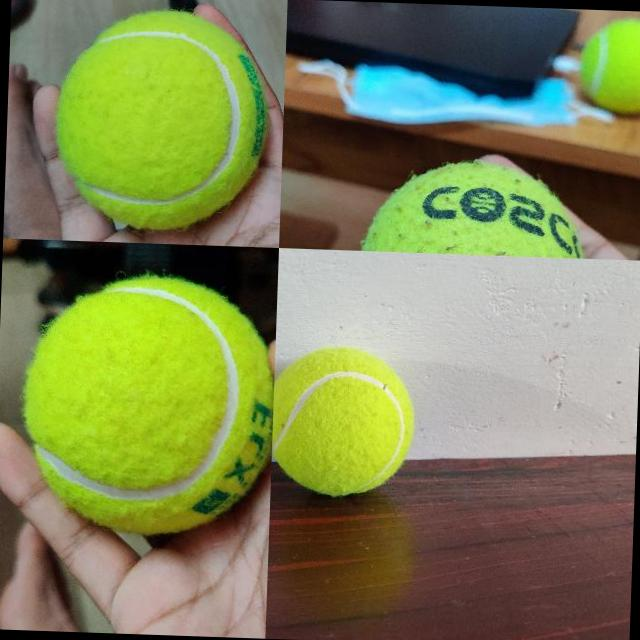Tennis Ball: (19, 272, 278, 538), (52, 6, 272, 233), (360, 158, 590, 258), (271, 344, 418, 499), (578, 17, 640, 112)
